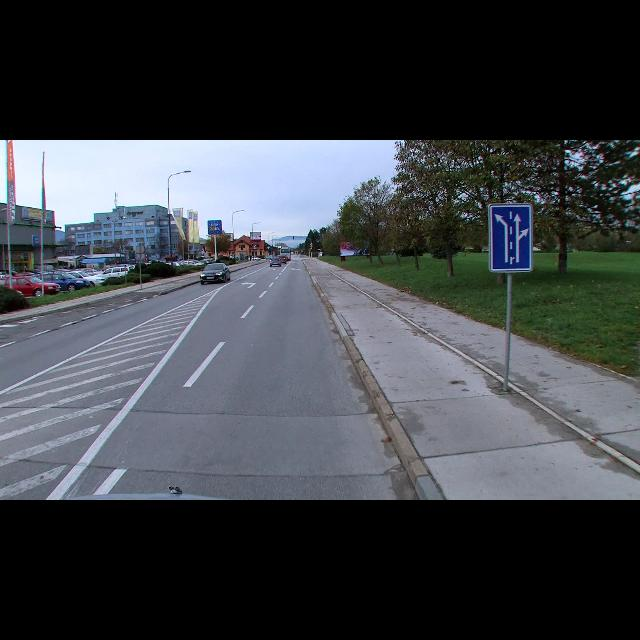Rectangle: (490, 202, 532, 274)
